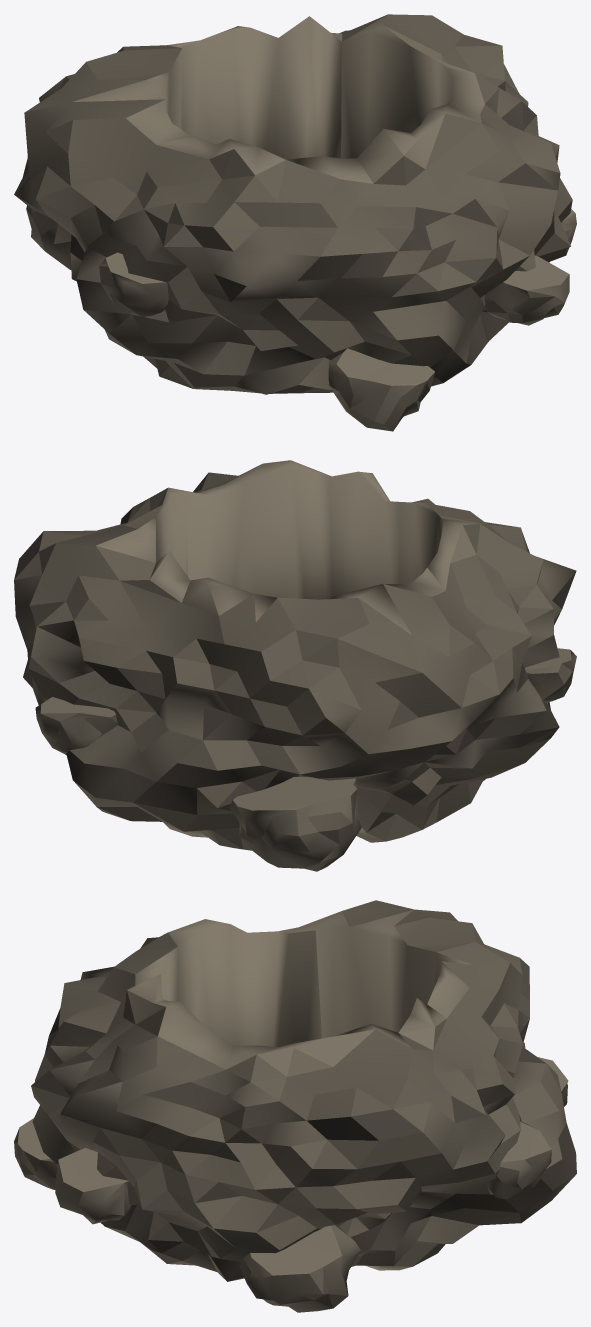
File: bored_rock_collar_lod1.glb
The picture shows the model from 3 angles, top to bottom: view 1: azimuth 30°, elevation 25°; view 2: azimuth 150°, elevation 25°; view 3: azimuth 270°, elevation 25°; orthographic projection. The views are drawn at different scales.
Parts seen in each view (by area): view 1: LOD1_Stone, LOD1_Stone_cut, LOD1_Stone_strata; view 2: LOD1_Stone, LOD1_Stone_cut, LOD1_Stone_strata; view 3: LOD1_Stone, LOD1_Stone_cut, LOD1_Stone_strata.
Boxes of the visible parts, x1=… form: LOD1_Stone: x1=14, y1=14, x2=576, y2=431; LOD1_Stone_cut: x1=72, y1=14, x2=575, y2=393; LOD1_Stone_strata: x1=15, y1=81, x2=557, y2=382; LOD1_Stone: x1=14, y1=465, x2=576, y2=871; LOD1_Stone_cut: x1=40, y1=460, x2=571, y2=848; LOD1_Stone_strata: x1=14, y1=473, x2=576, y2=814; LOD1_Stone: x1=14, y1=900, x2=575, y2=1312; LOD1_Stone_cut: x1=17, y1=909, x2=568, y2=1275; LOD1_Stone_strata: x1=49, y1=1008, x2=576, y2=1281.
Size of the model in its own units: 3.66 by 1.91 by 3.64.
